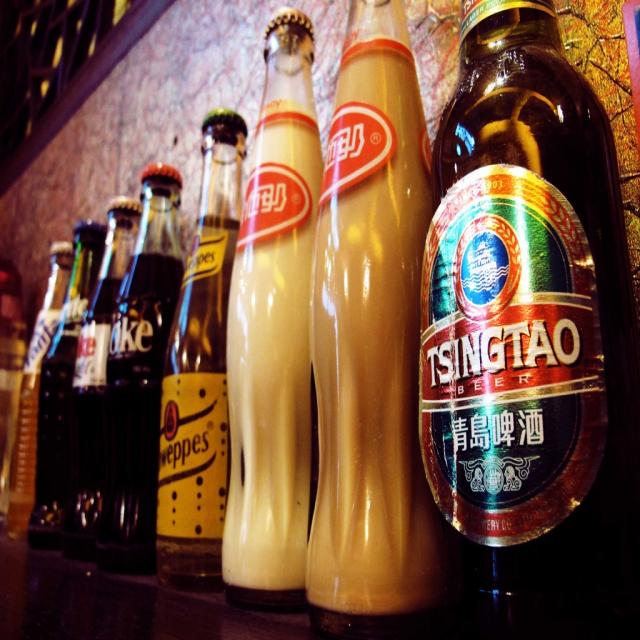tsingtao: (419, 162, 610, 548)
